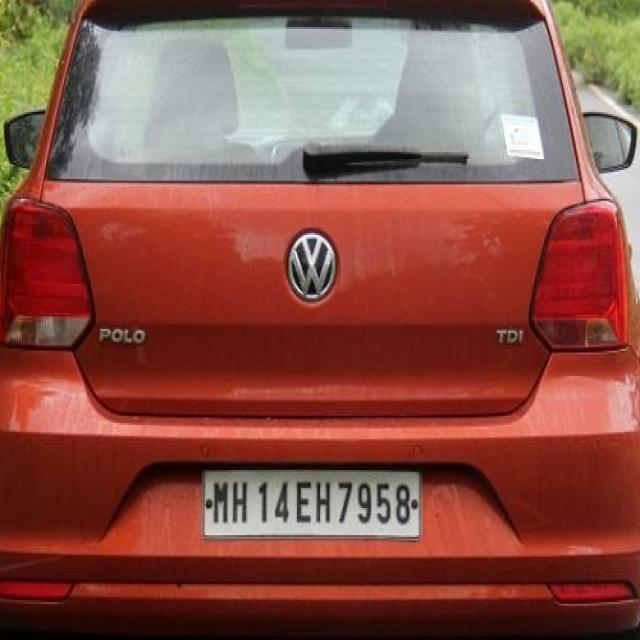number_plate: (200, 468, 420, 534)
